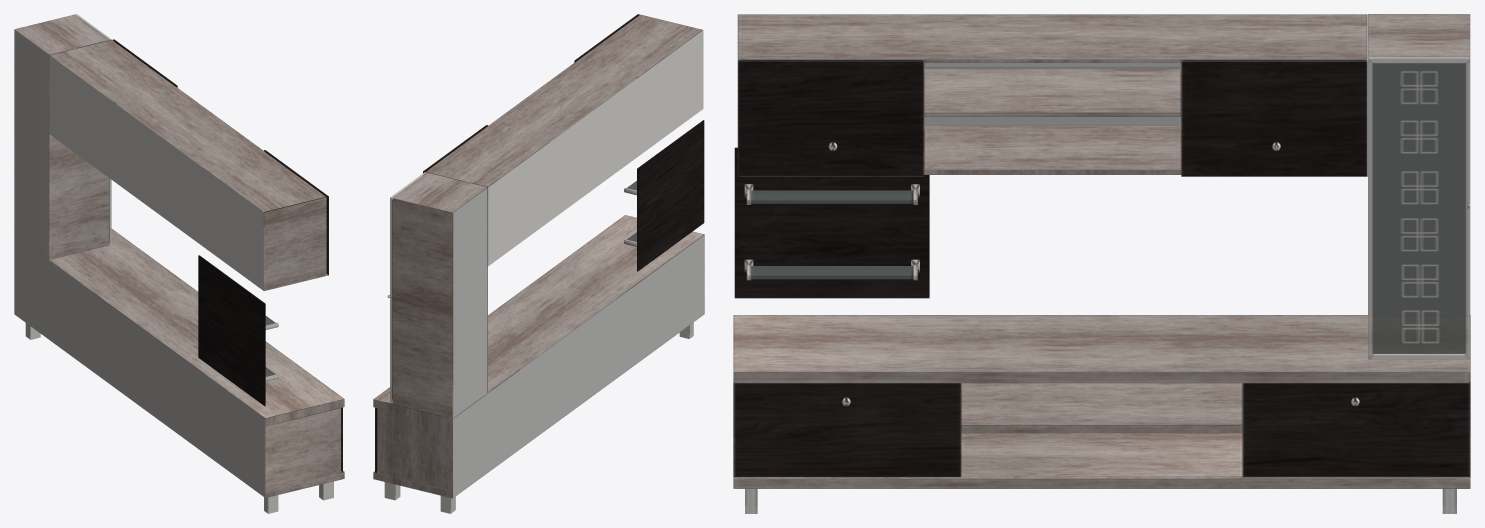
Rendered from wall_cabinet.glb.
3 renders of one model, left to right at view 1: azimuth 30°, elevation 25°; view 2: azimuth 150°, elevation 25°; view 3: azimuth 270°, elevation 25°, orthographic. The views are drawn at different scales.
Parts seen in each view (by area): view 1: Wall Cabinet; view 2: Wall Cabinet; view 3: Wall Cabinet.
Part boxes in pixels (<box>): Wall Cabinet: <box>14,14,344,513</box>; Wall Cabinet: <box>373,14,704,513</box>; Wall Cabinet: <box>733,14,1470,513</box>.
Bounding box in the file's own units: 0.5695 × 2.01 × 3.
1 material, 1 textured.
